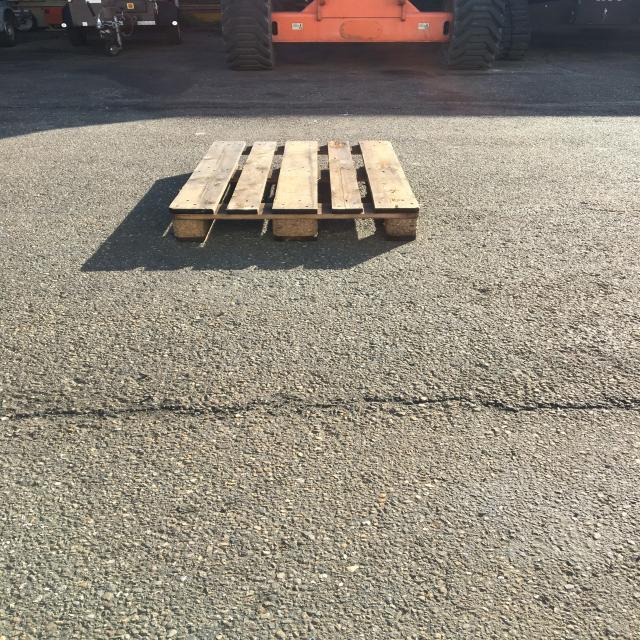block: (272, 210, 320, 241), (166, 208, 208, 240), (378, 211, 419, 240)
front: (159, 203, 424, 242)
